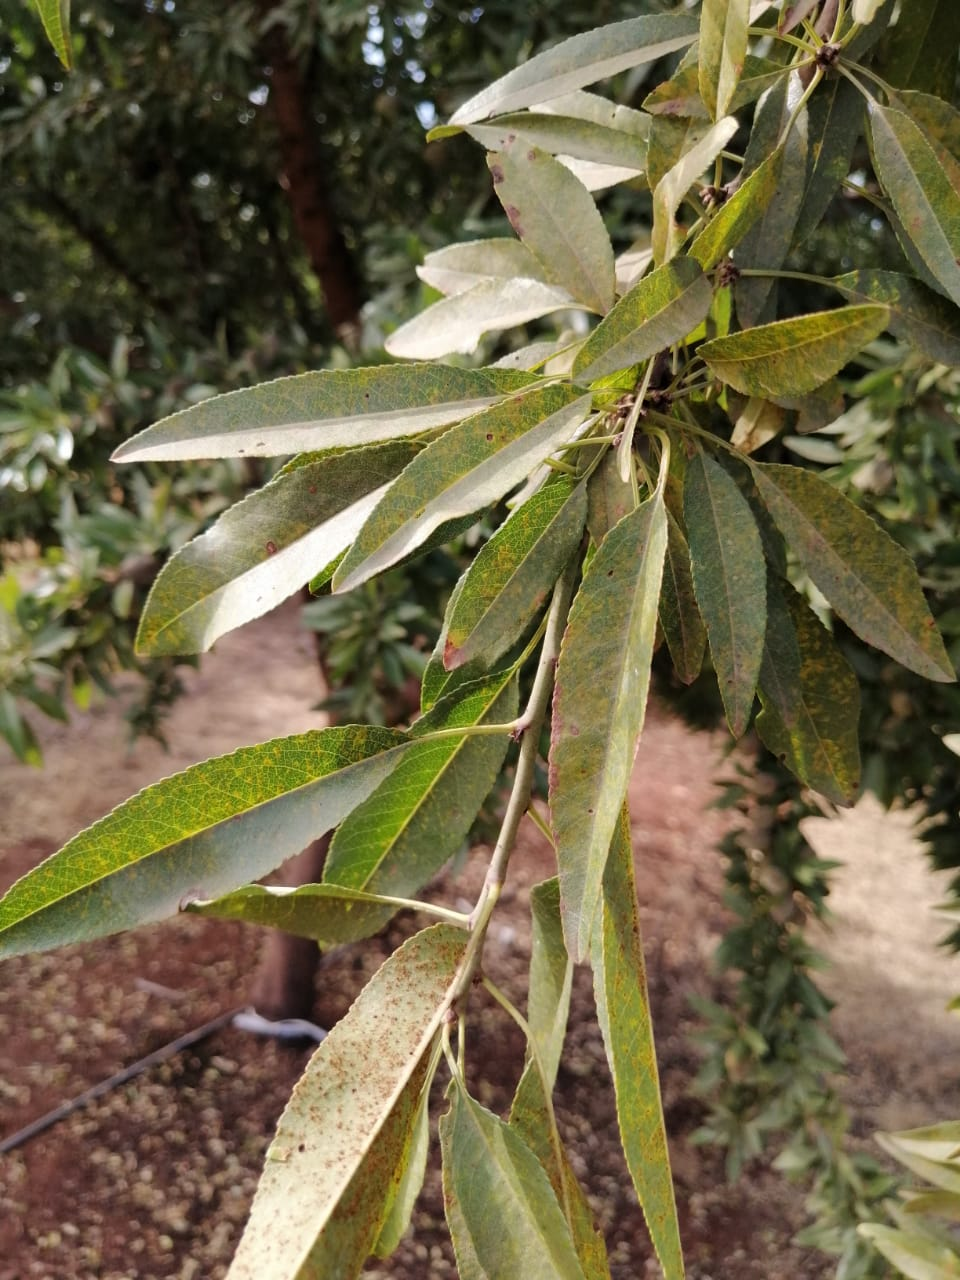rouille: (224, 922, 480, 1280), (132, 445, 428, 658), (548, 500, 669, 964), (332, 380, 594, 594), (594, 783, 688, 1275), (752, 461, 955, 684), (107, 363, 534, 465), (483, 131, 618, 311)
